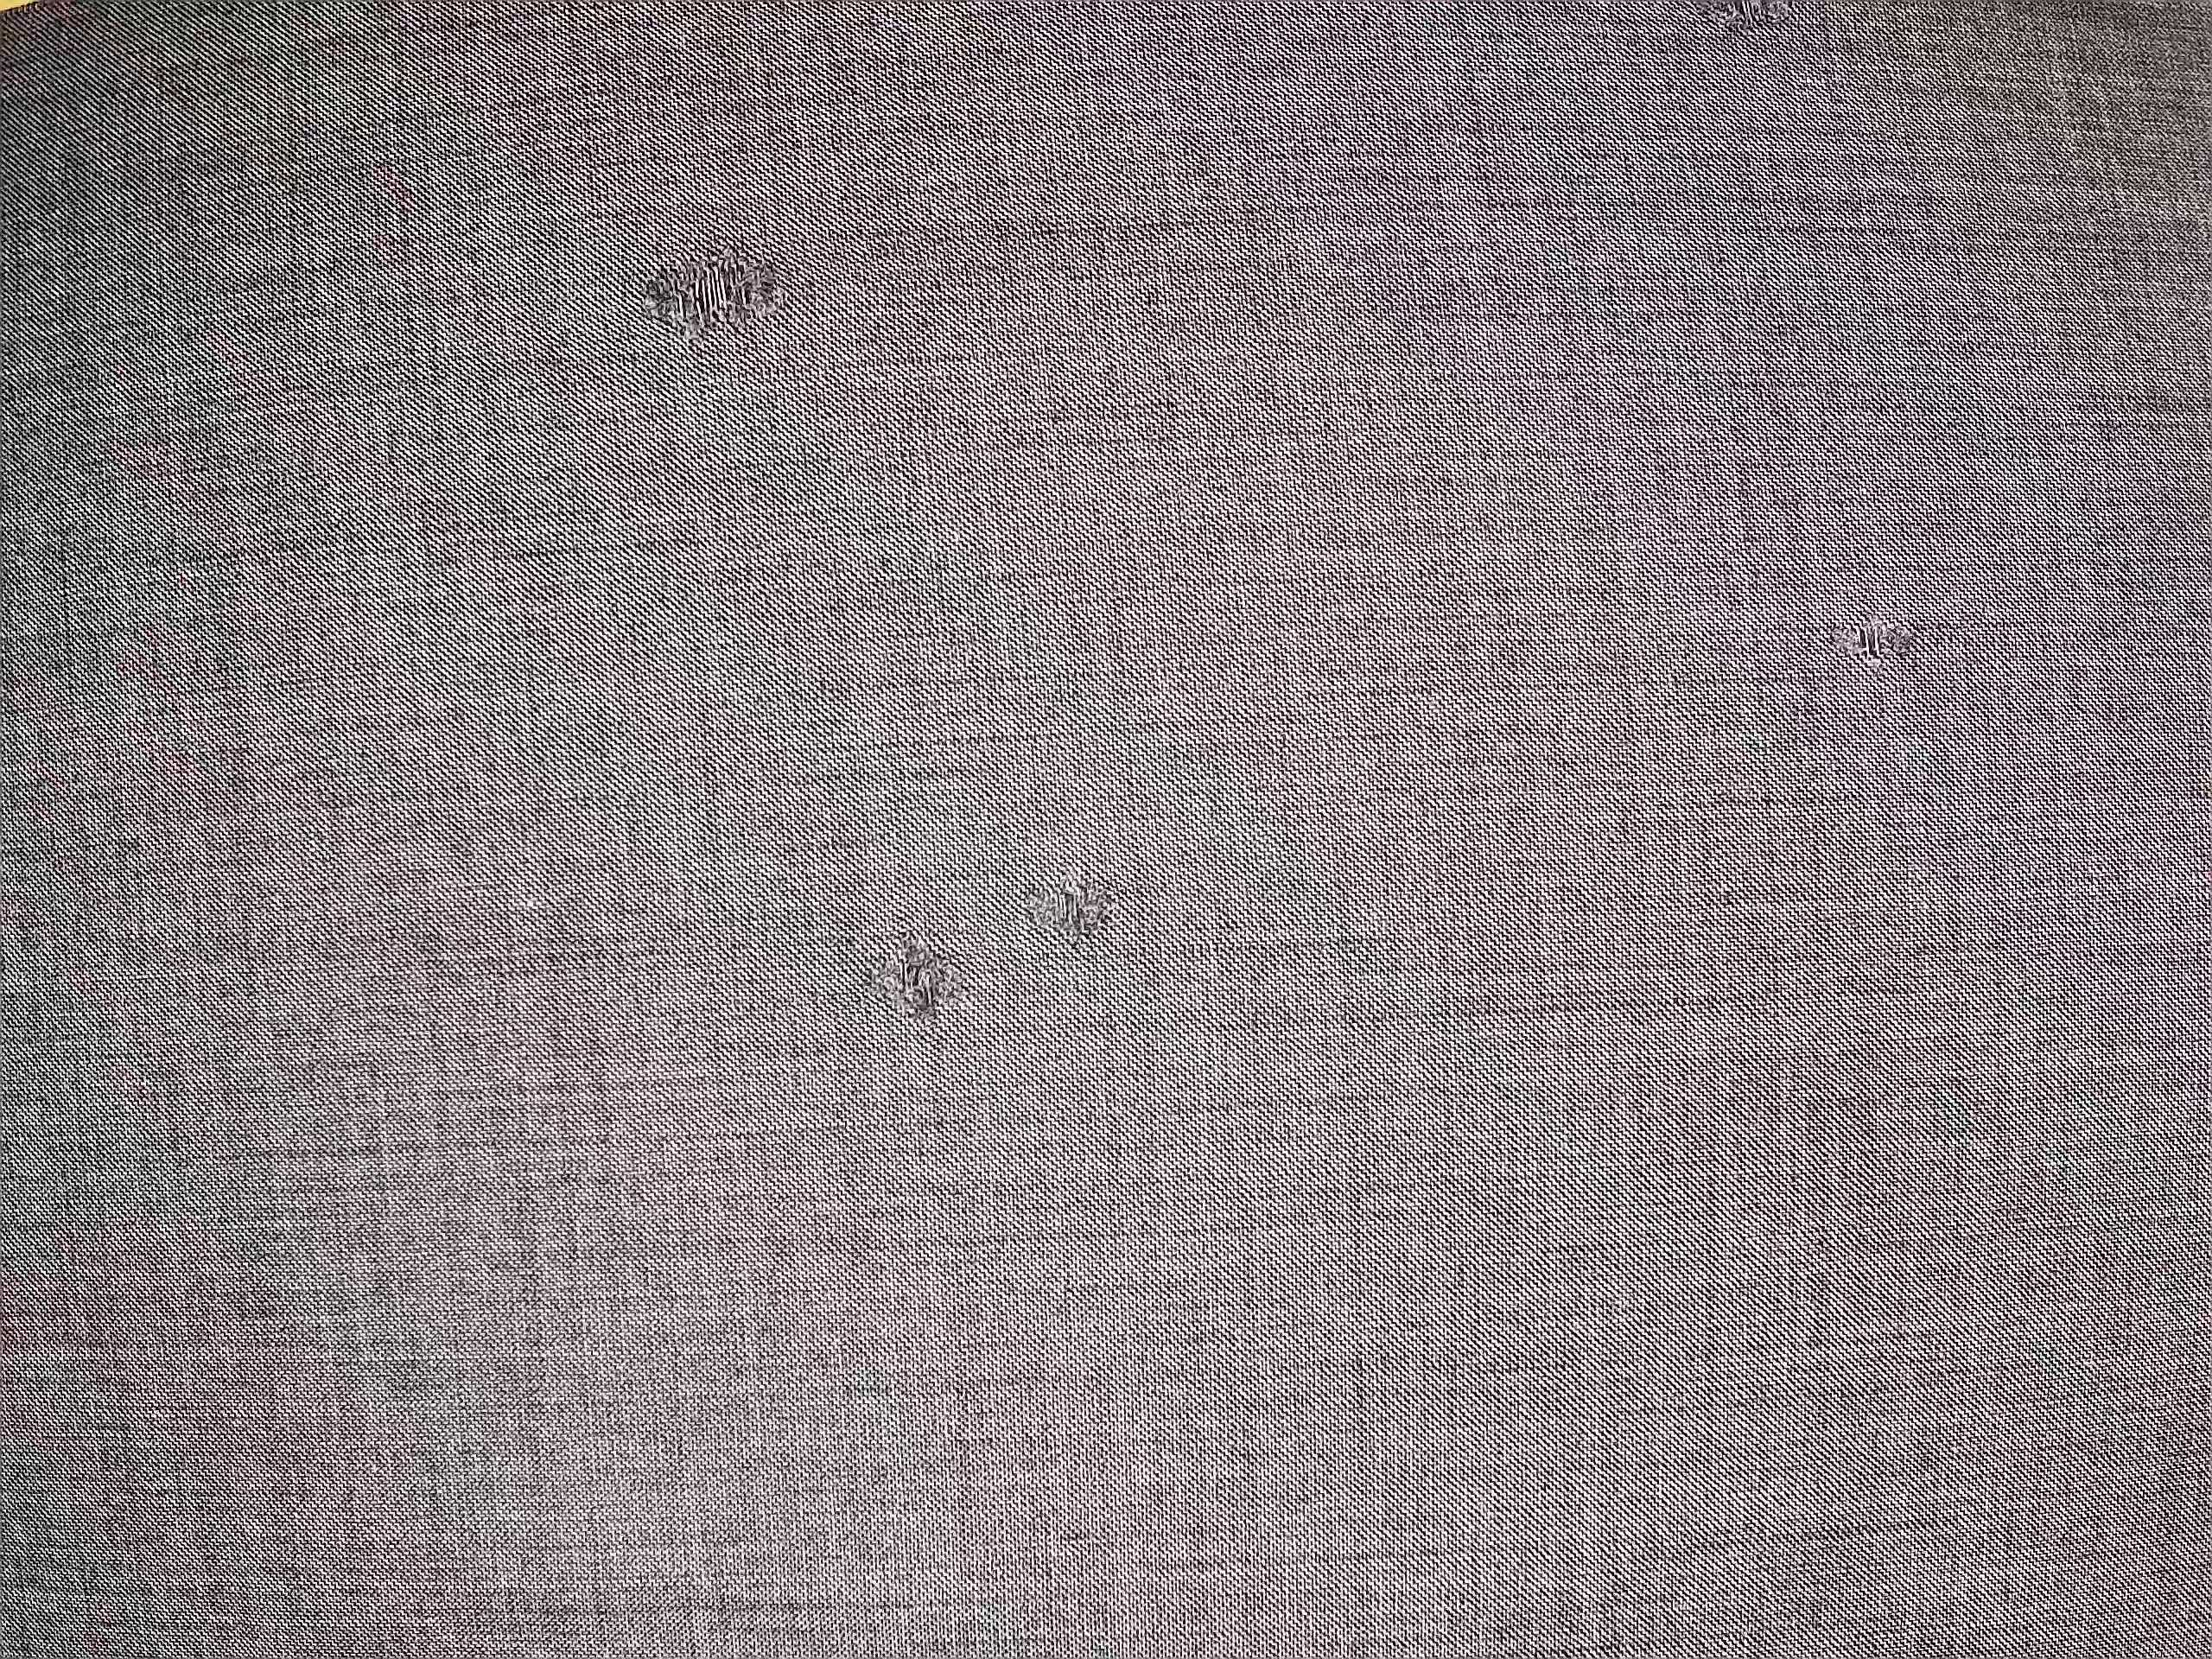rubbing-hole: (627, 220, 808, 355), (867, 924, 986, 1035), (1033, 861, 1141, 962), (1834, 598, 1939, 683)
